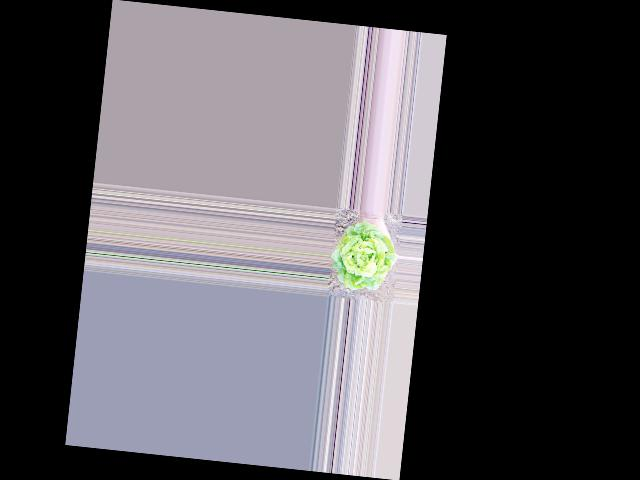lettuce: (329, 223, 398, 294)
